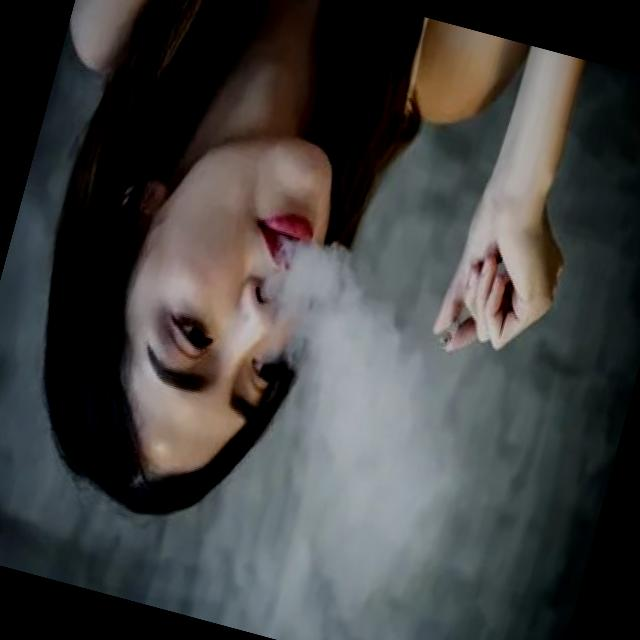cigarette: (431, 311, 461, 355)
